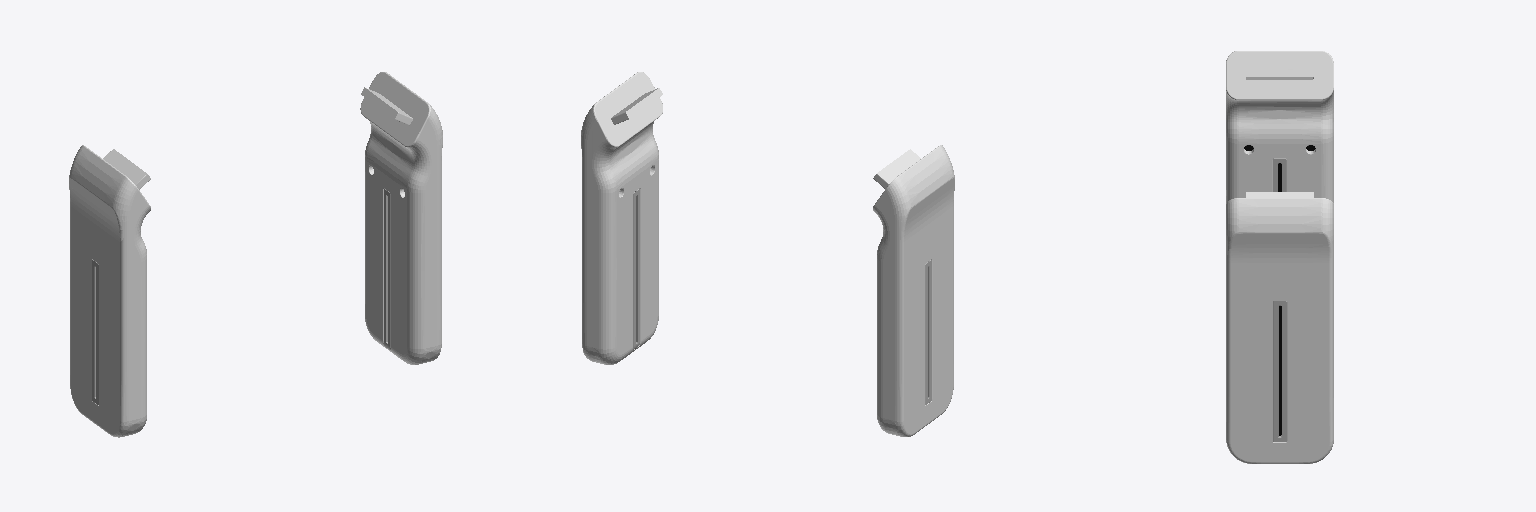
Rendered from CephModule.obj.
3 renders of one model, left to right at view 1: azimuth 30°, elevation 25°; view 2: azimuth 150°, elevation 25°; view 3: azimuth 270°, elevation 25°, orthographic.
Visible parts, largest first — view 1: object_8, object_7, object_13, object_1, object_15, object_16; view 2: object_8, object_7, object_1, object_13, object_15, object_16; view 3: object_7, object_8, object_2, object_15.
Boxes of the visible parts, box(x1,y1,x2,y2) form: object_8: box(69, 145, 150, 437); object_7: box(360, 72, 442, 364); object_13: box(92, 260, 98, 404); object_1: box(384, 189, 390, 349); object_15: box(103, 149, 150, 189); object_16: box(361, 87, 412, 125); object_8: box(873, 145, 954, 436); object_7: box(581, 72, 662, 364); object_1: box(633, 189, 639, 349); object_13: box(925, 260, 931, 404); object_15: box(873, 149, 920, 188); object_16: box(611, 88, 662, 124); object_7: box(1226, 198, 1333, 463); object_8: box(1226, 51, 1333, 203); object_2: box(1273, 301, 1286, 441); object_15: box(1246, 69, 1313, 79).
Size of the model in its own units: 746 by 571 by 213.